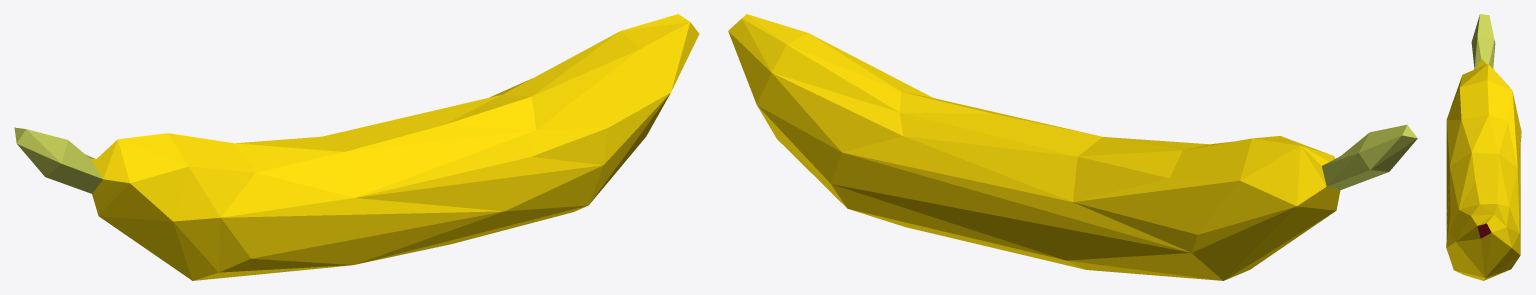
The model's file is banana1.fbx.
3 renders of one model, left to right at view 1: azimuth 30°, elevation 25°; view 2: azimuth 150°, elevation 25°; view 3: azimuth 270°, elevation 25°, orthographic. The views are drawn at different scales.
Visible parts, largest first — view 1: bananabody, banantop; view 2: bananabody, banantop; view 3: bananabody, banantop, bananbottom.
Part boxes in pixels (x1=…): bananabody: x1=91, y1=14, x2=699, y2=280; banantop: x1=14, y1=127, x2=102, y2=193; bananabody: x1=728, y1=14, x2=1340, y2=280; banantop: x1=1322, y1=124, x2=1417, y2=190; bananabody: x1=1446, y1=58, x2=1521, y2=280; banantop: x1=1471, y1=14, x2=1495, y2=69; bananbottom: x1=1477, y1=223, x2=1491, y2=238.
Bounding box in the file's own units: 1125 × 336 × 190.
